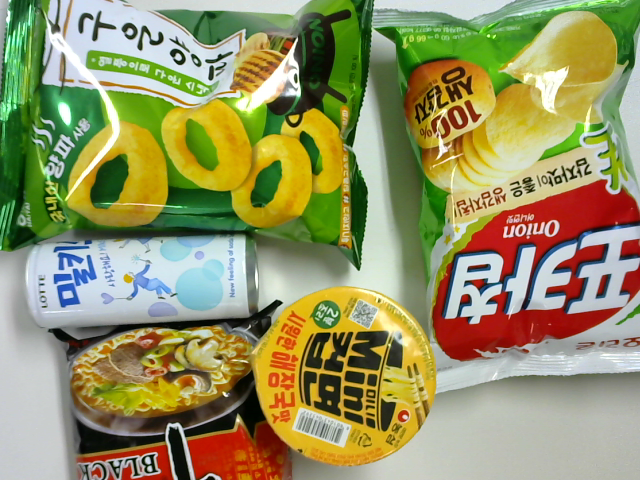Grilled_Onions: (3, 2, 377, 254)
Hejangmini: (255, 290, 437, 462)
Milkies_250ml: (23, 246, 261, 320)
Pocachip_Onion: (373, 6, 640, 385)
Sinramen_Black: (45, 314, 297, 480)
